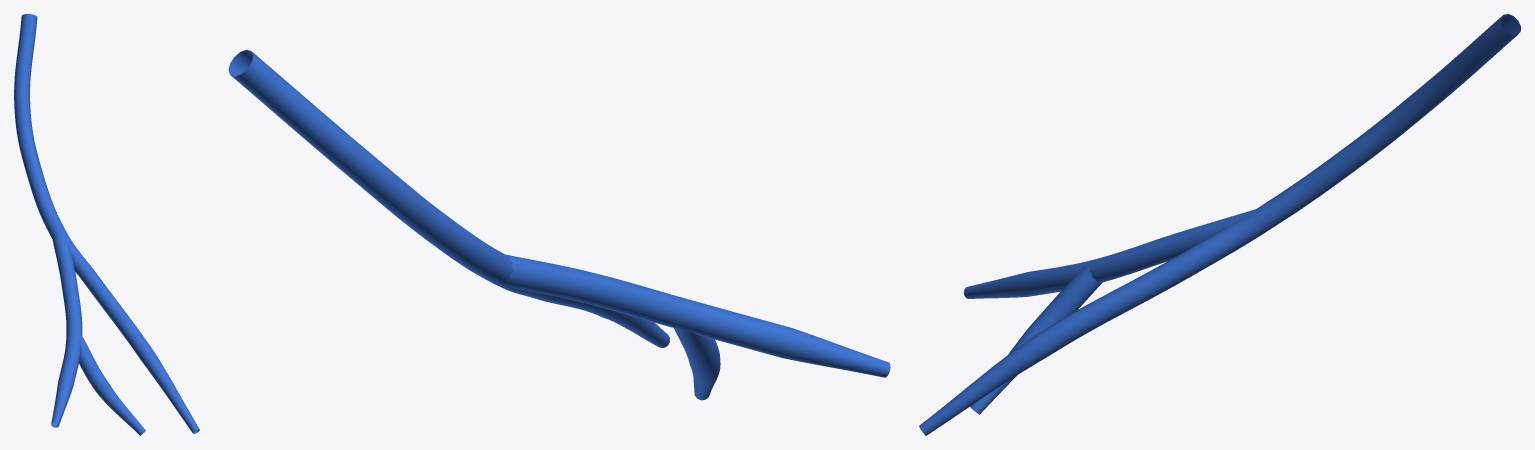
Rendered from circulatorio-medial-segmental-artery-of-right-lung.glb.
3 renders of one model, left to right at view 1: azimuth 30°, elevation 25°; view 2: azimuth 150°, elevation 25°; view 3: azimuth 270°, elevation 25°, orthographic. The views are drawn at different scales.
Parts seen in each view (by area): view 1: Medial segmental artery of right lung; view 2: Medial segmental artery of right lung; view 3: Medial segmental artery of right lung.
Boxes of the visible parts, x1=… form: Medial segmental artery of right lung: x1=14, y1=14, x2=199, y2=435; Medial segmental artery of right lung: x1=228, y1=49, x2=890, y2=400; Medial segmental artery of right lung: x1=919, y1=14, x2=1520, y2=435.
Size of the model in its own units: 0.0456 by 0.0785 by 0.0967.
